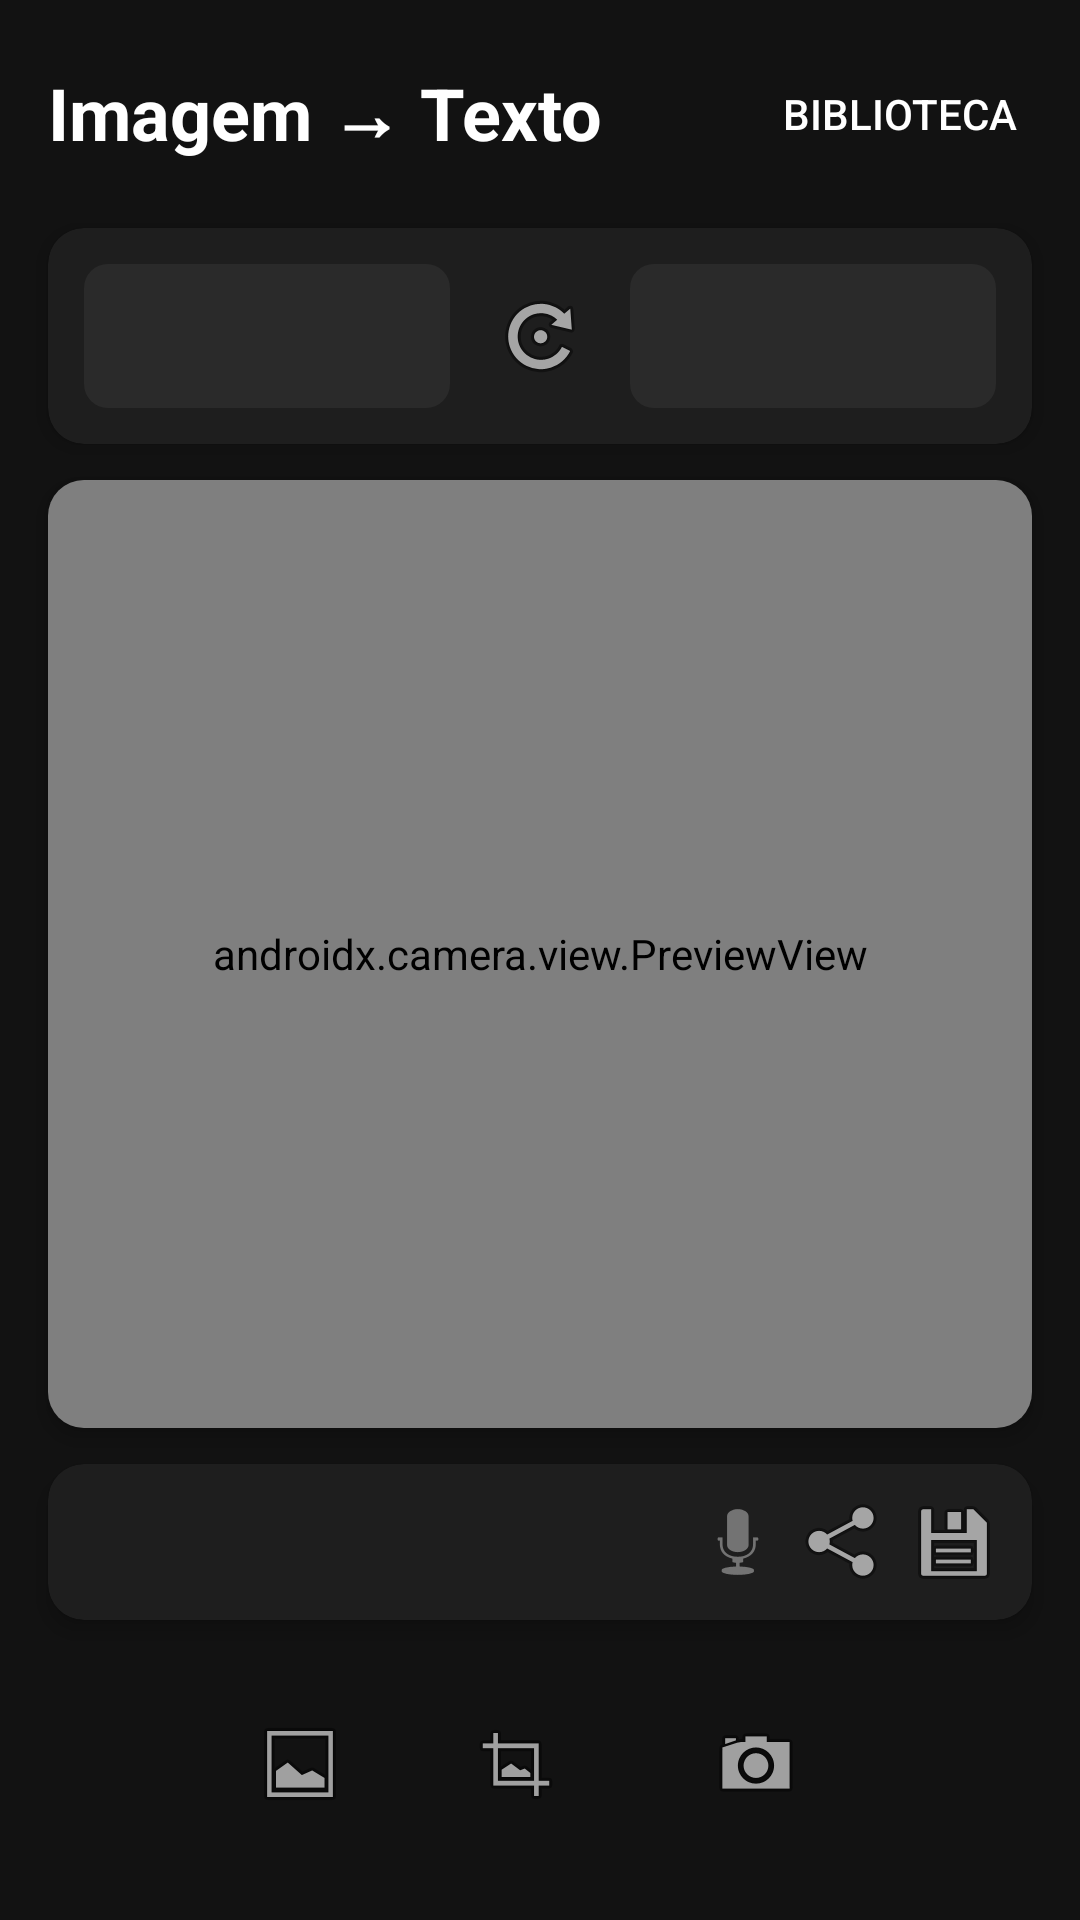

Icons on this 1080w x 1920h Android screen, each with its box as (x1, y1, x2, y2):
camera: (722, 1736, 790, 1789)
Compartilhar: (808, 1507, 874, 1576)
crop: (482, 1733, 550, 1796)
Escolher da galeria: (267, 1731, 333, 1797)
Ouvir: (717, 1509, 759, 1575)
rotate: (508, 304, 572, 369)
